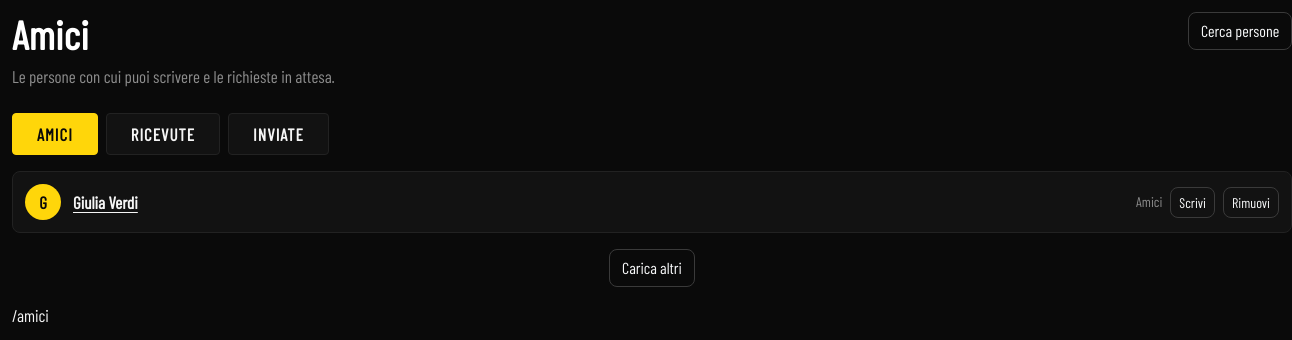
FriendsPage · stati vuoti e pagine › «Carica altri» chiede la pagina dopo senza perdere la prima
Expected: the link "Giulia Verdi" is shown, [73, 192, 138, 212]
Click the button "Carica altri". click: (652, 268)
box: [609, 249, 695, 287]
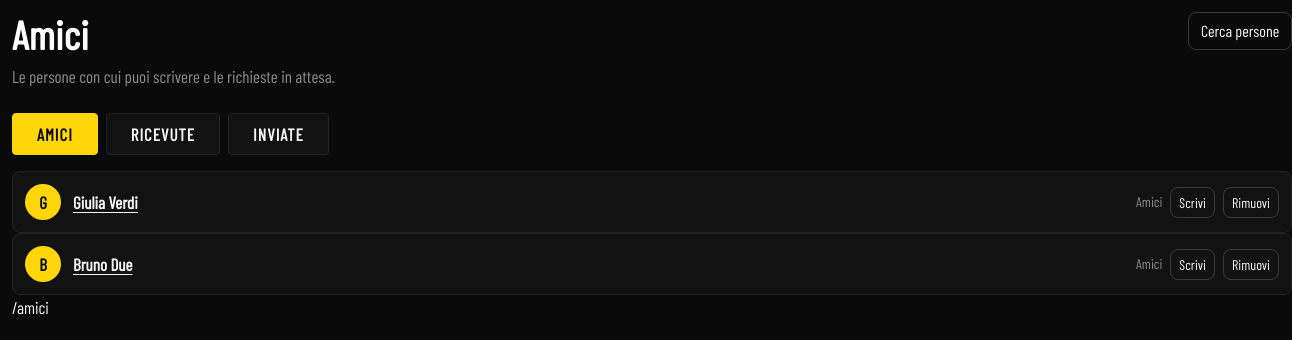
Expected: the link "Giulia Verdi" is shown, [73, 192, 138, 212]
Result: the link "Bruno Due" is shown at [73, 254, 132, 274]
